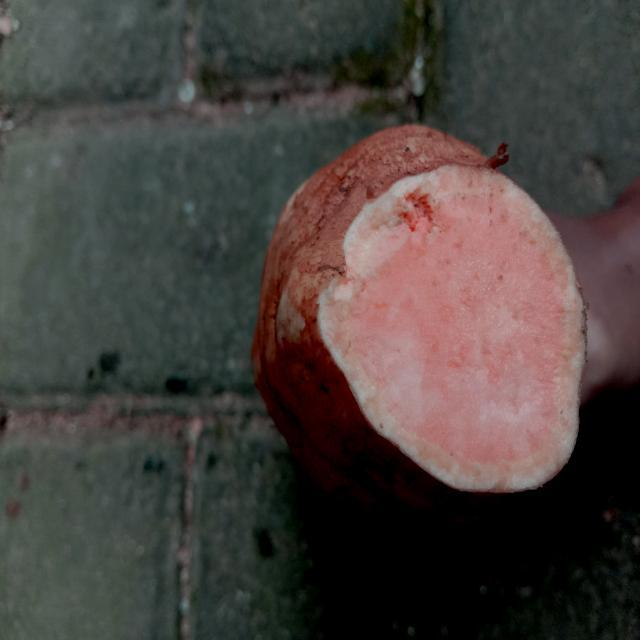Healthy Sweet Potato: (319, 165, 585, 493)
